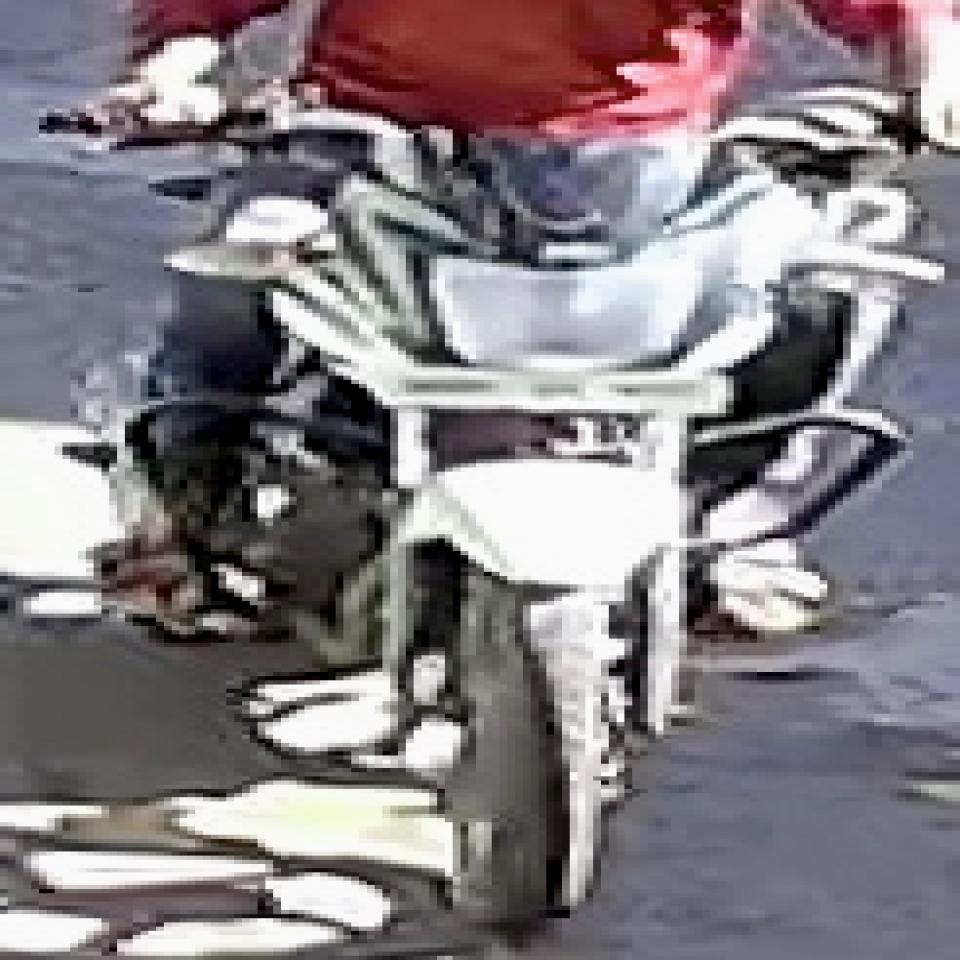head_light: (414, 244, 721, 366)
